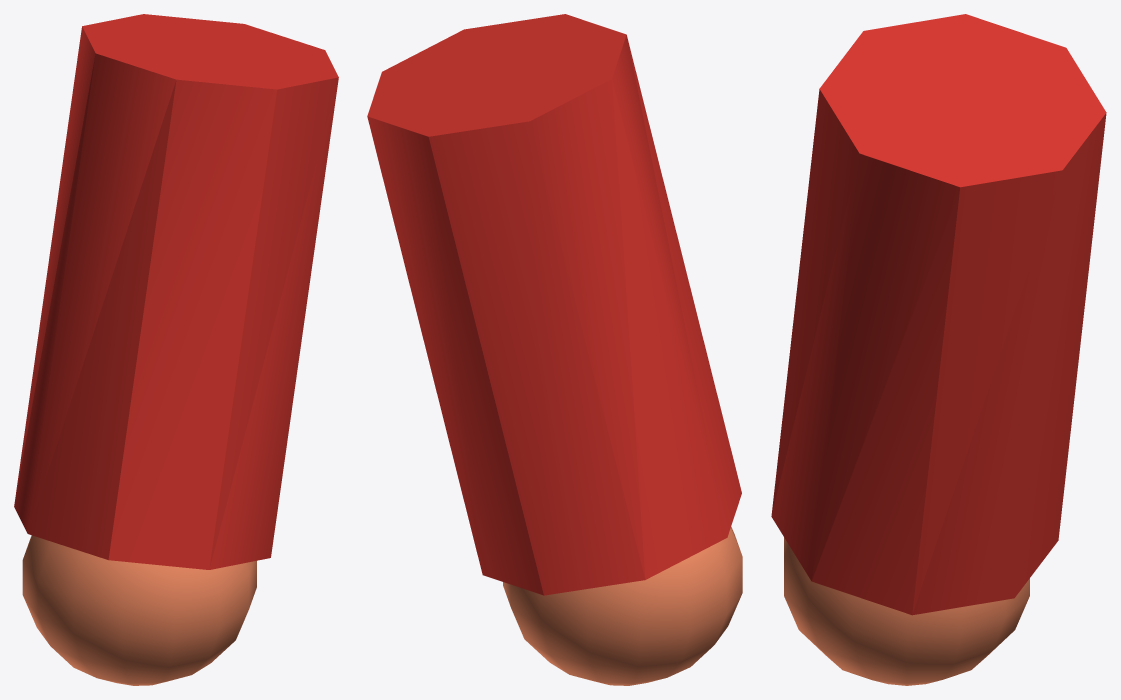
Rendered from LeftArm.glb.
The picture shows the model from 3 angles, left to right: view 1: azimuth 30°, elevation 25°; view 2: azimuth 150°, elevation 25°; view 3: azimuth 270°, elevation 25°; orthographic projection. The views are drawn at different scales.
Visible parts, largest first — view 1: sleeve, mitten; view 2: sleeve, mitten; view 3: sleeve, mitten.
Part boxes in pixels (<box>): sleeve: <box>14,14,338,569</box>; mitten: <box>22,535,256,685</box>; sleeve: <box>367,14,741,595</box>; mitten: <box>503,526,742,685</box>; sleeve: <box>771,14,1106,615</box>; mitten: <box>784,537,1029,685</box>.
Size of the model in its own units: 0.9842 by 1.8 by 0.837.
